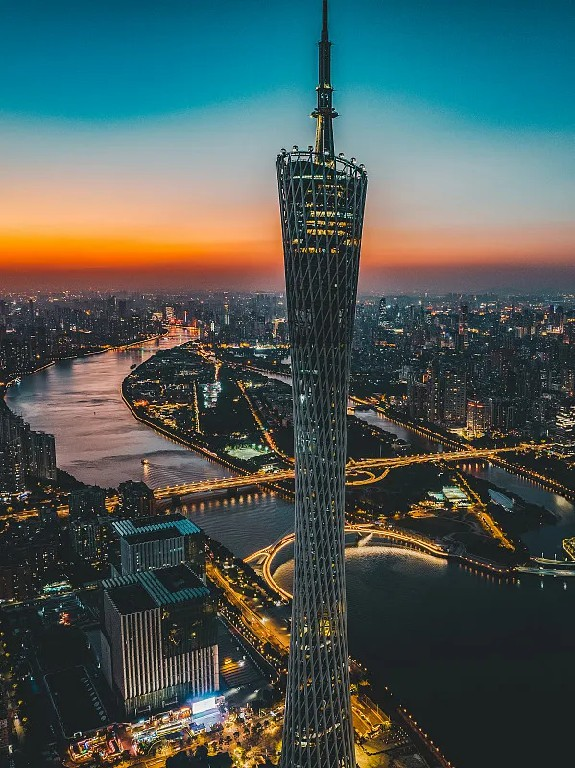Canton: (273, 3, 369, 768)
